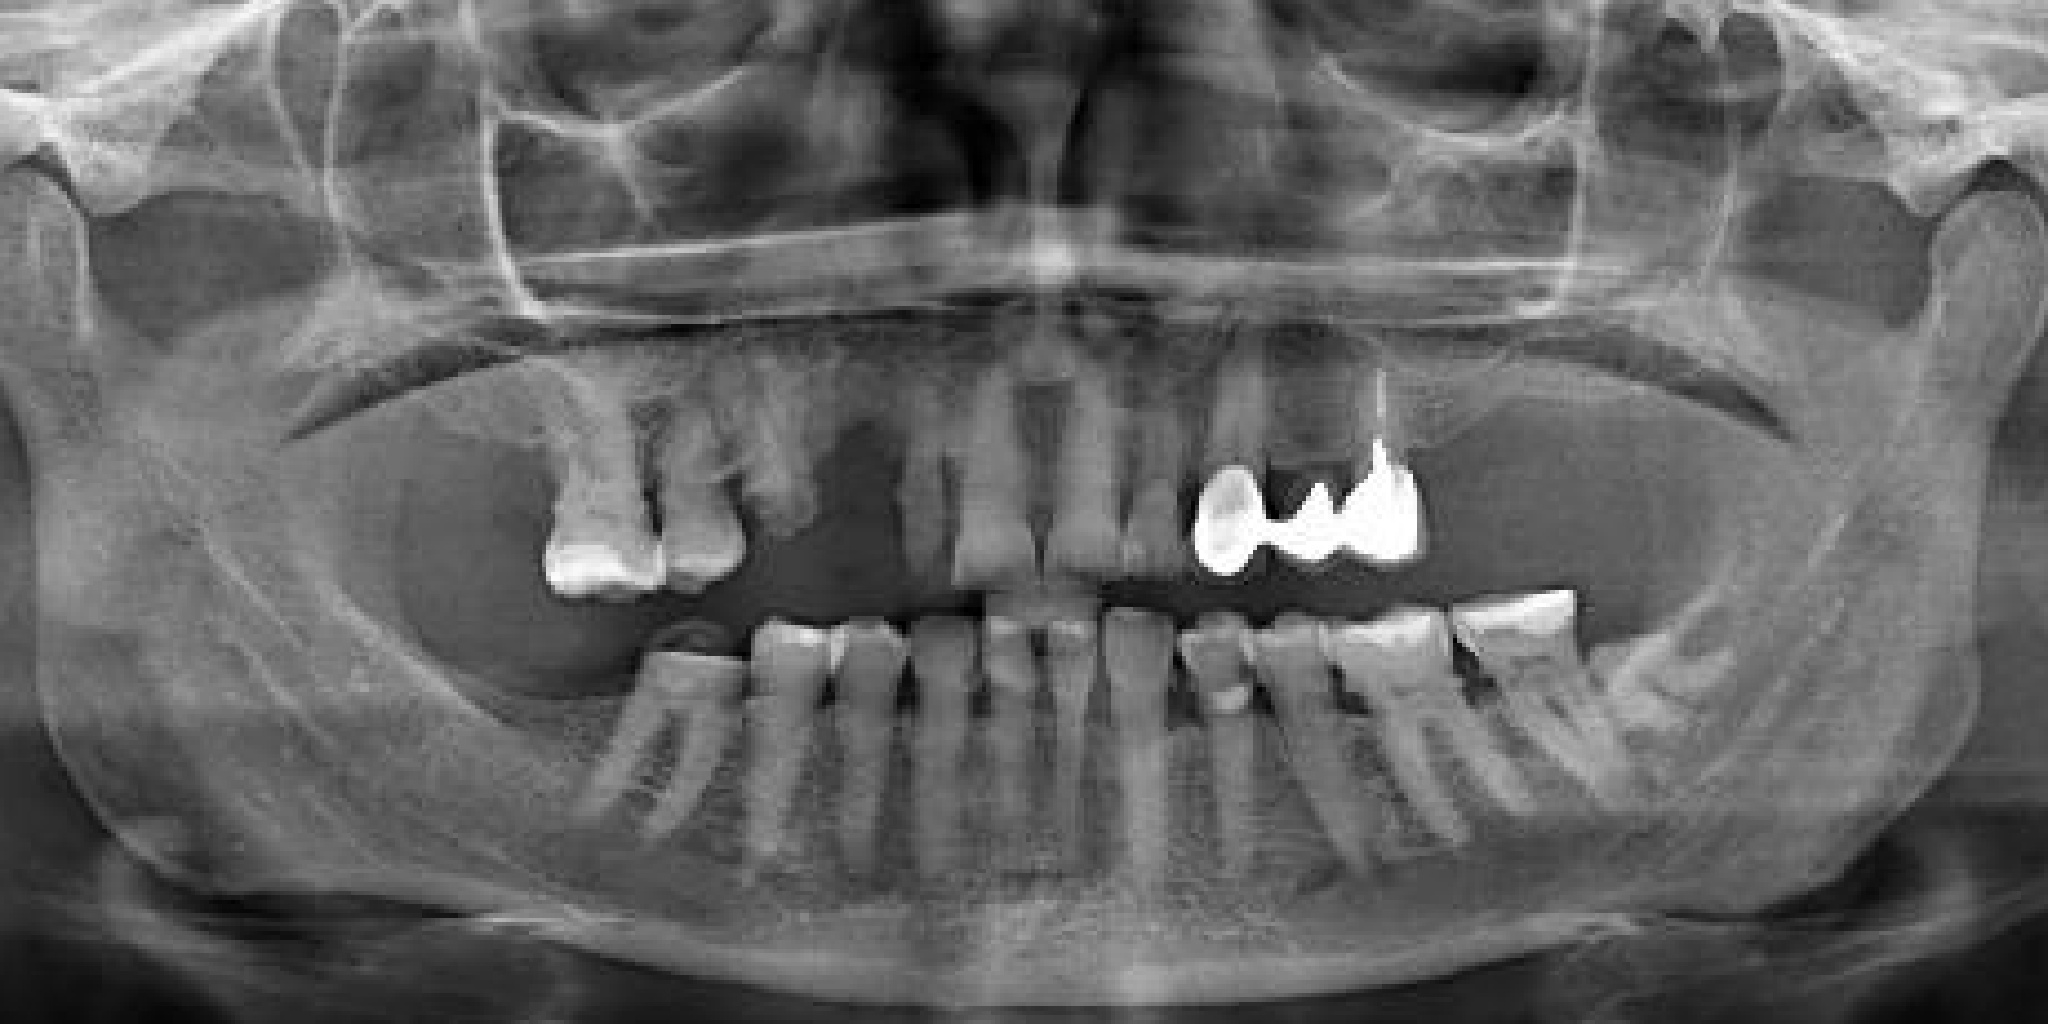Tooth: (1242, 522, 1652, 957), (1370, 483, 1752, 927), (1496, 415, 1855, 862), (1160, 538, 1490, 984), (624, 542, 921, 980), (633, 216, 905, 647), (530, 552, 797, 981), (1109, 219, 1369, 647), (807, 550, 1061, 974), (475, 260, 716, 679), (969, 238, 1209, 657), (573, 247, 807, 664), (1258, 229, 1492, 644), (1027, 566, 1260, 981), (871, 252, 1105, 667), (1115, 559, 1341, 972), (953, 549, 1179, 961), (899, 550, 1125, 963), (744, 554, 970, 967), (812, 216, 1038, 628), (1049, 239, 1263, 647)
